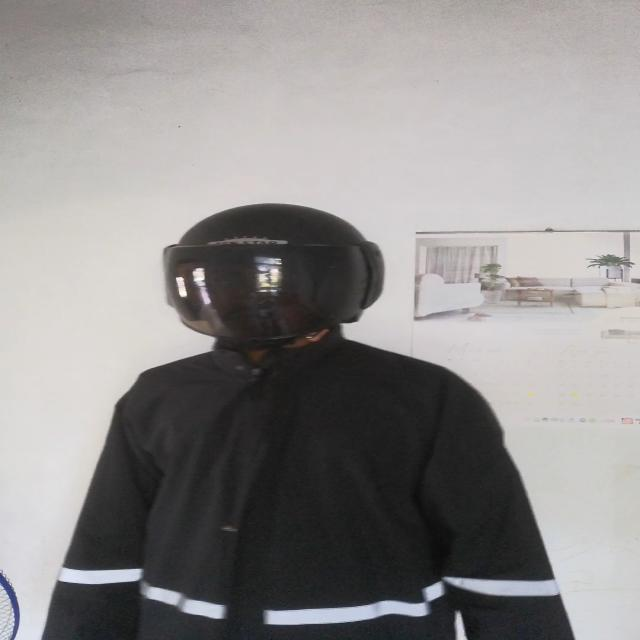Helmet_Wearer: (156, 198, 390, 366)
Jacket_Wearer: (41, 322, 581, 639)
Person: (59, 198, 574, 640)
